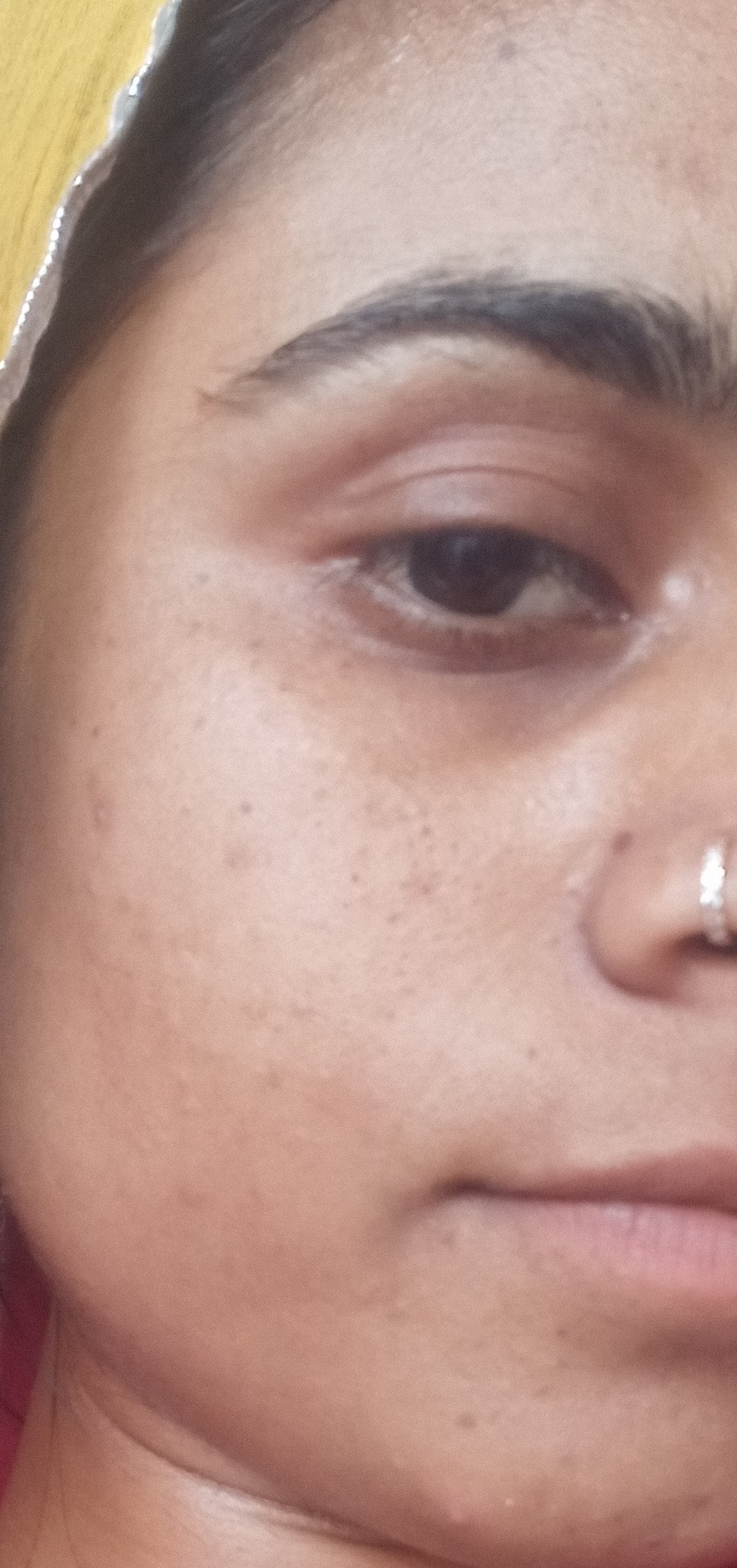pustule: (429, 1488, 499, 1552)
